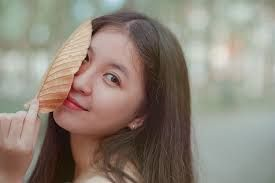no-mask: (45, 21, 178, 135)
